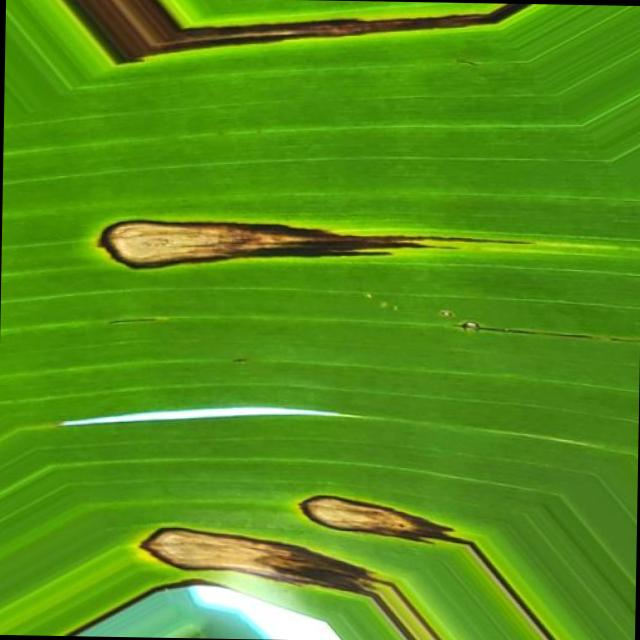Banana_Black_Sigatoka: (67, 159, 407, 347)
